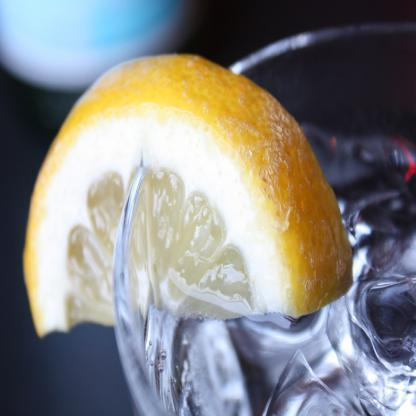lemon: (22, 52, 353, 338)
